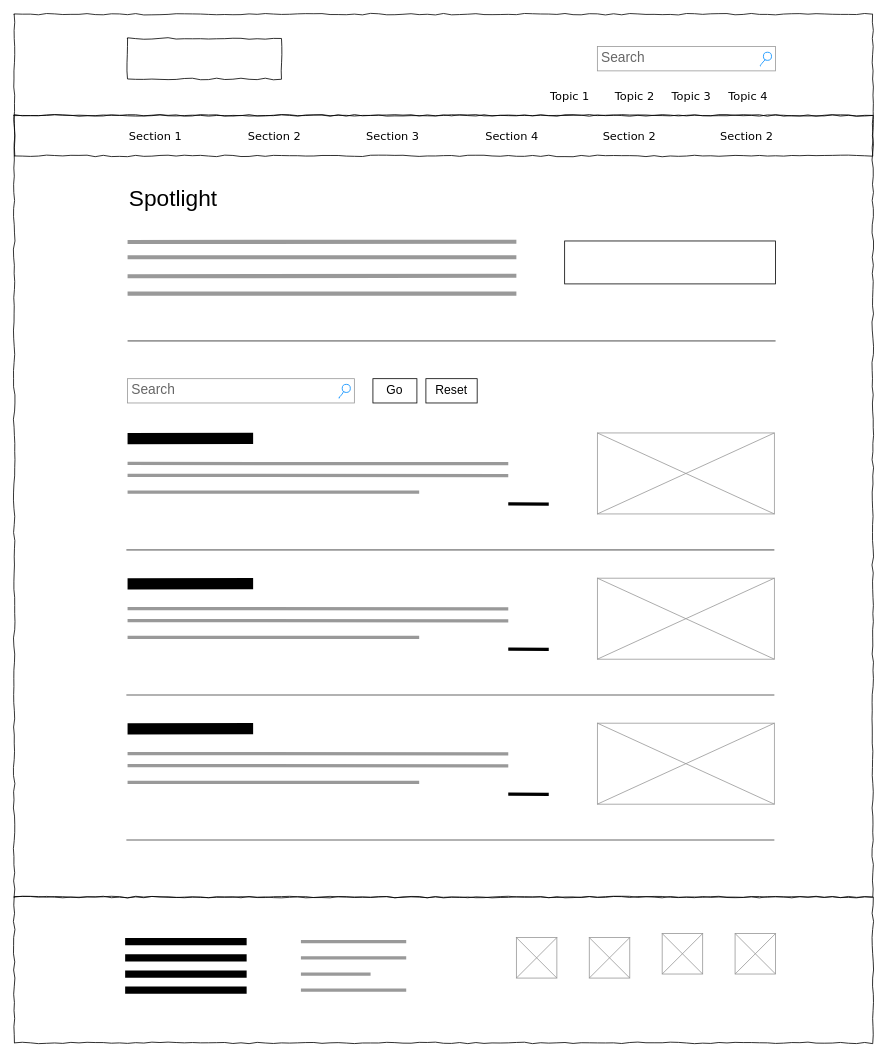
The diagram is 887 pixels wide and 1057 high, and some of its shapes have lost their labels. The centre of each missing label's shape, as x and y in pixels:
Join our Community: the point at 670,262
LOGO: the point at 204,58
